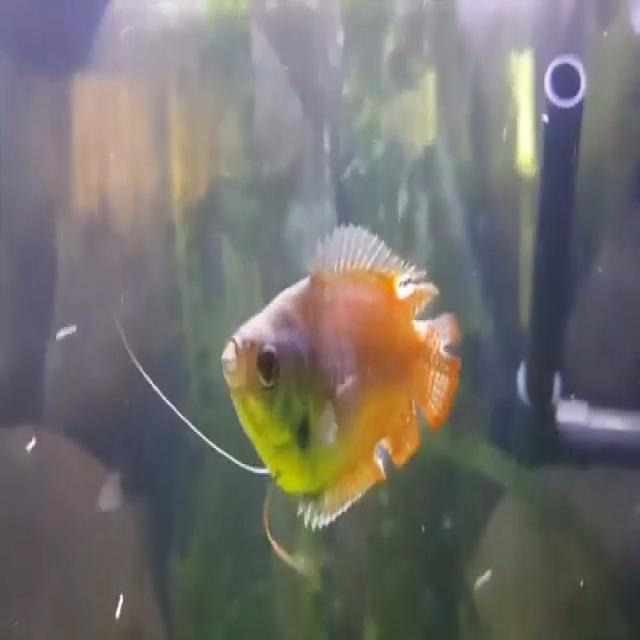fish: (221, 220, 465, 532)
